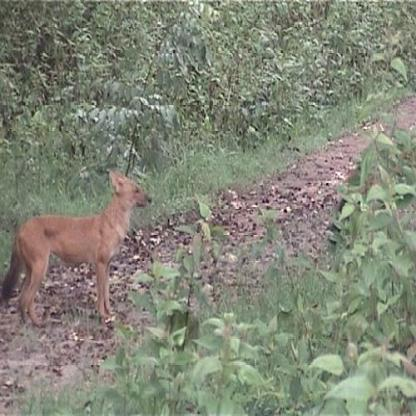dhole: (0, 164, 153, 324)
